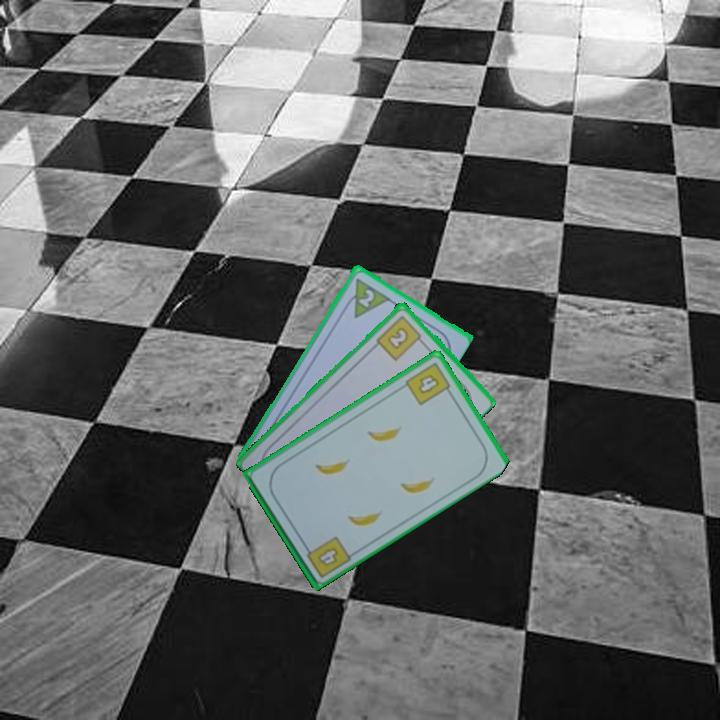2b: (373, 312, 427, 363)
2p: (354, 285, 377, 310)
4b: (401, 358, 455, 408), (300, 532, 353, 581)
